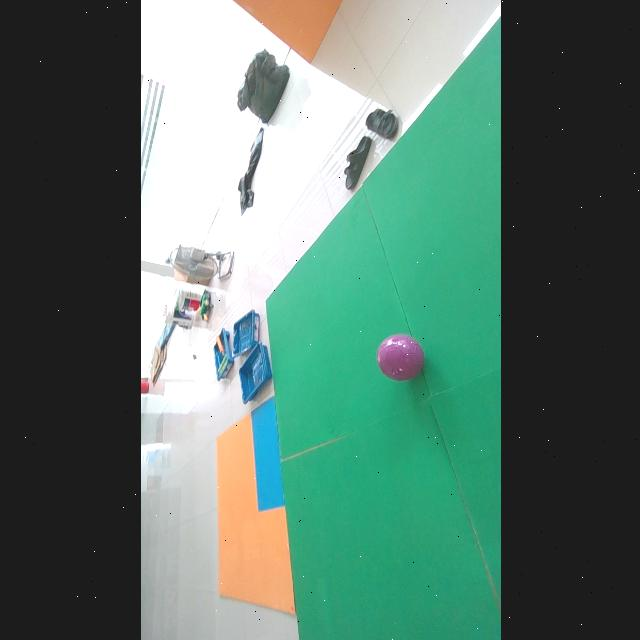P: (376, 334, 423, 381)
